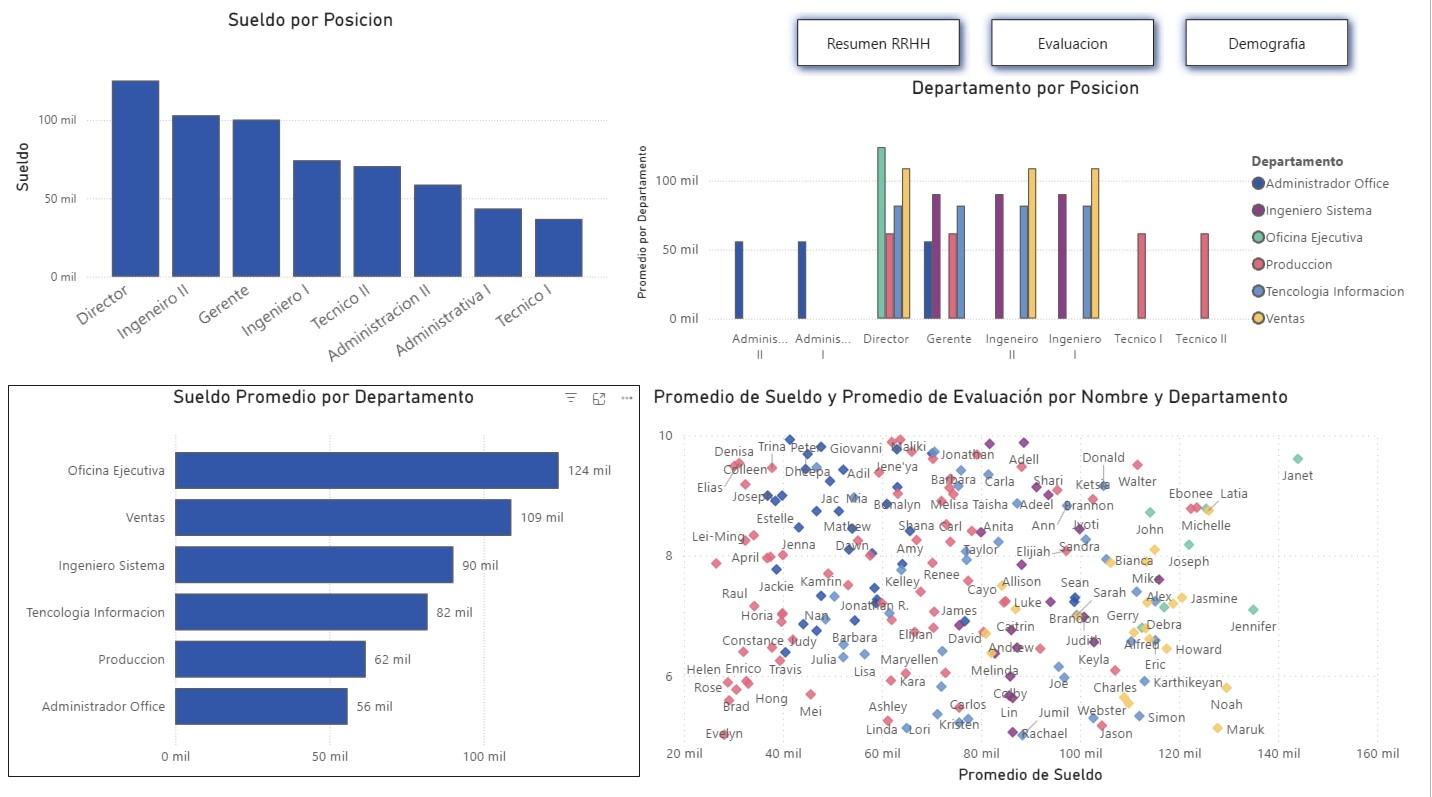

What the dashboard file says about the page in this screenshot:
{"tool":"powerbi","page":{"name":"Sueldos","canvas":[1280,720],"ordinal":2},"visuals":[{"type":"columnChart","fields":{"Category":["Tabla1_2.Posicion"],"Y":["Avg(Tabla1_2.Sueldo)"]},"box":[13.8,13.8,539.1,331.2],"z":0},{"type":"clusteredBarChart","fields":{"Category":["Tabla1_2.Departamento"],"Y":["MEDIDAS.Sueldo_Promedio_por_Departamento"]},"box":[13.8,349.3,562.4,349.3],"z":1000},{"type":"clusteredColumnChart","title":"Departamento por Posicion ","fields":{"Category":["Tabla1_2.Posicion"],"Y":["MEDIDAS.Sueldo_Promedio_por_Departamento"],"Series":["Tabla1_2.Departamento"]},"box":[567.5,74.2,704.7,263.1],"z":2000},{"type":"scatterChart","fields":{"X":["Avg(Tabla1_2.Sueldo)"],"Category":["Tabla1_2.Nombre","Tabla1_2.Apellido","Tabla1_2.Nombre_Jefe","Tabla1_2.Posicion"],"Series":["Tabla1_2.Departamento"],"Y":["Avg(Tabla1_2.Evaluación)"]},"box":[583.1,349.3,674.5,359.7],"z":3000},{"type":"pageNavigator","box":[706.9,14,509,60.6],"z":4000}]}

Visuals, with their boxes in screenshot pixels (x1, y1, x2, y2), scaled from the page's 1280x720 canvas onto the 1432x797 screenshot:
columnChart - Tabla1_2.Posicion x Avg(Tabla1_2.Sueldo): crop(15, 15, 619, 382)
clusteredBarChart - Tabla1_2.Departamento x MEDIDAS.Sueldo_Promedio_por_Departamento: crop(15, 387, 645, 773)
"Departamento por Posicion " clusteredColumnChart: crop(635, 82, 1423, 373)
scatterChart - Avg(Tabla1_2.Sueldo) x Tabla1_2.Nombre: crop(652, 387, 1407, 785)
pageNavigator: crop(791, 15, 1360, 83)
